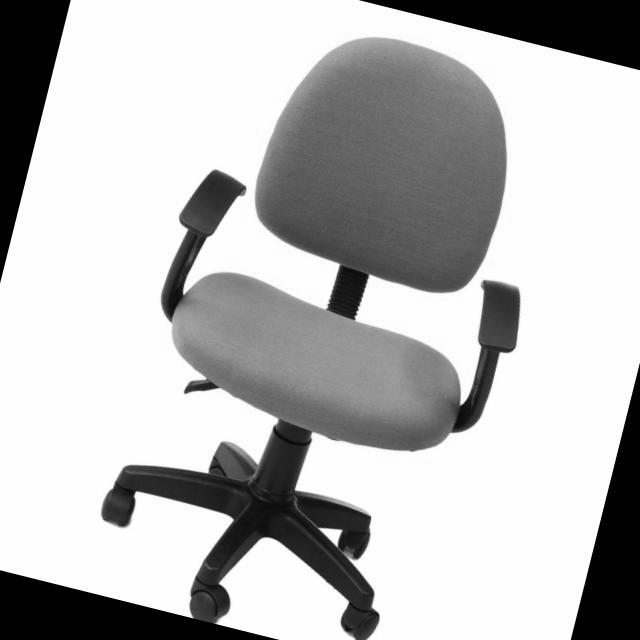chair: (62, 0, 582, 640)
